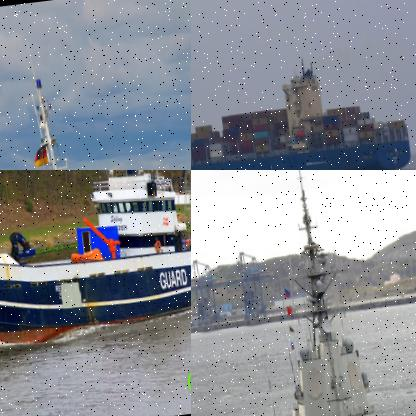Fishing Boat: (0, 170, 190, 359)
Merchant Ship: (191, 45, 413, 169)
Military Ship: (212, 170, 415, 415)
Patrol Boat: (0, 25, 187, 169)
